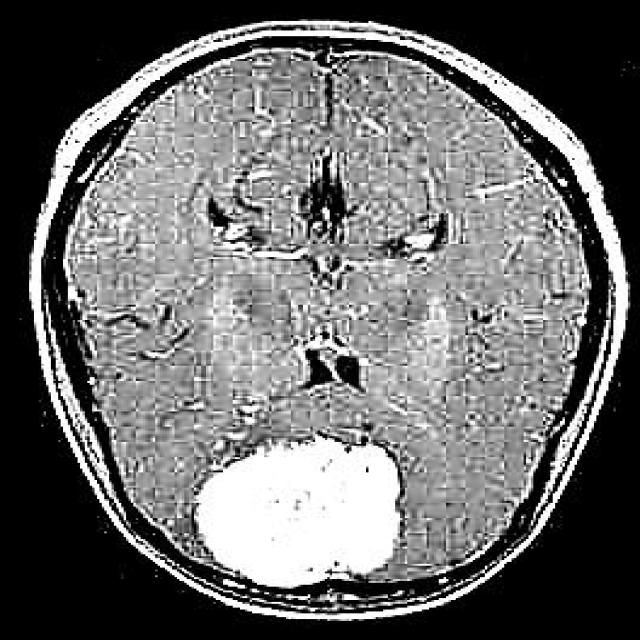Tumor-Cell: (200, 391, 382, 557)
